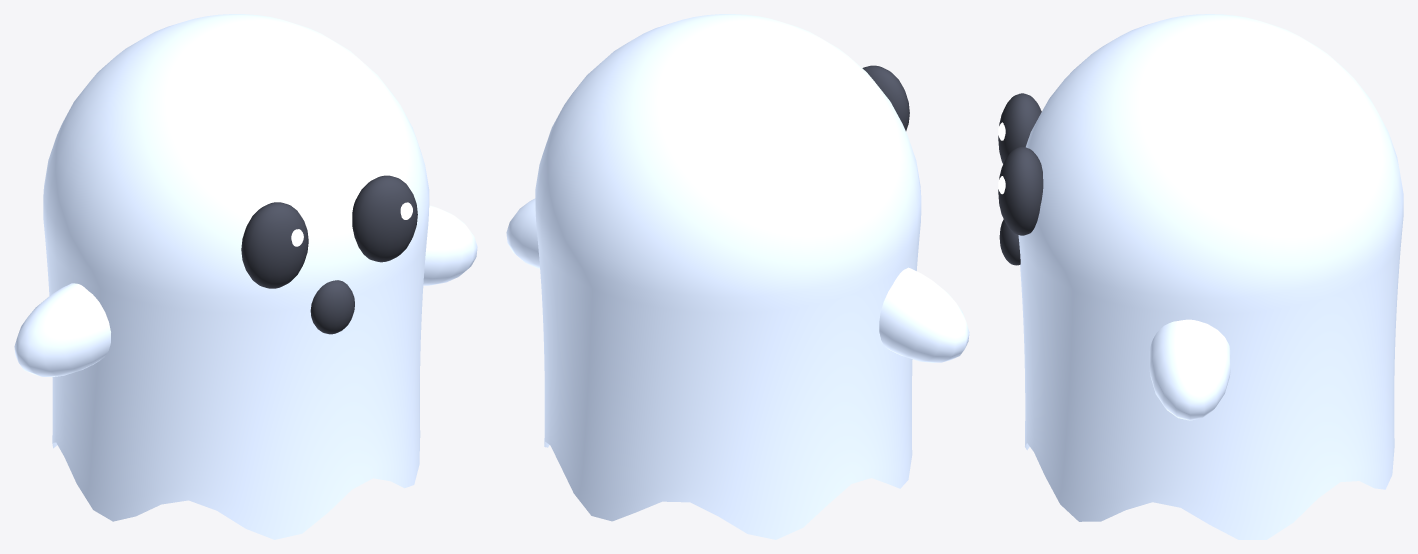
File: ghost.glb
The picture shows the model from 3 angles, left to right: view 1: azimuth 30°, elevation 25°; view 2: azimuth 150°, elevation 25°; view 3: azimuth 270°, elevation 25°; orthographic projection.
Parts seen in each view (by area): view 1: body, eyes; view 2: body, eyes; view 3: body, eyes.
Part boxes in pixels (<box>): body: <box>14,14,477,539</box>; eyes: <box>241,175,417,334</box>; body: <box>506,14,969,539</box>; eyes: <box>862,65,909,130</box>; body: <box>1018,14,1403,539</box>; eyes: <box>998,93,1043,265</box>.
Bounding box in the file's own units: 1.09 × 0.985 × 0.8337.
